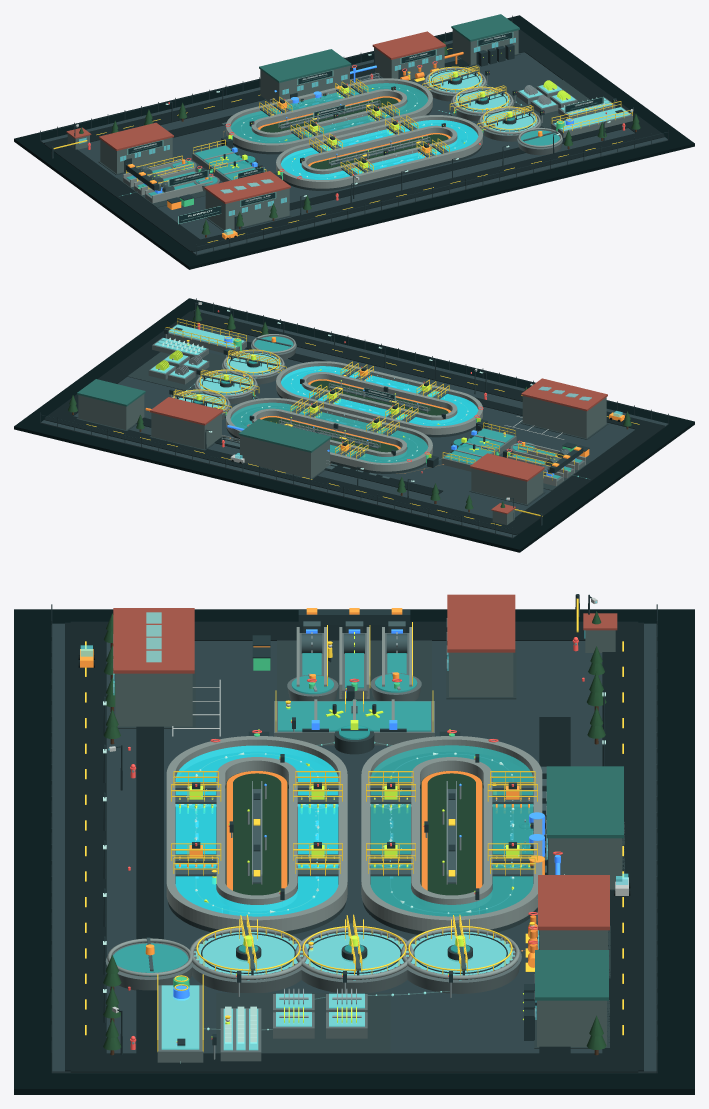
File: oxidation.glb
3 views of the same model, one above another, from view 1: azimuth 30°, elevation 25°; view 2: azimuth 150°, elevation 25°; view 3: azimuth 270°, elevation 25° (orthographic). The views are drawn at different scales.
Size of what is drawn, in the model's own units: 60 by 4 by 36.
333 materials, 11 textured.
